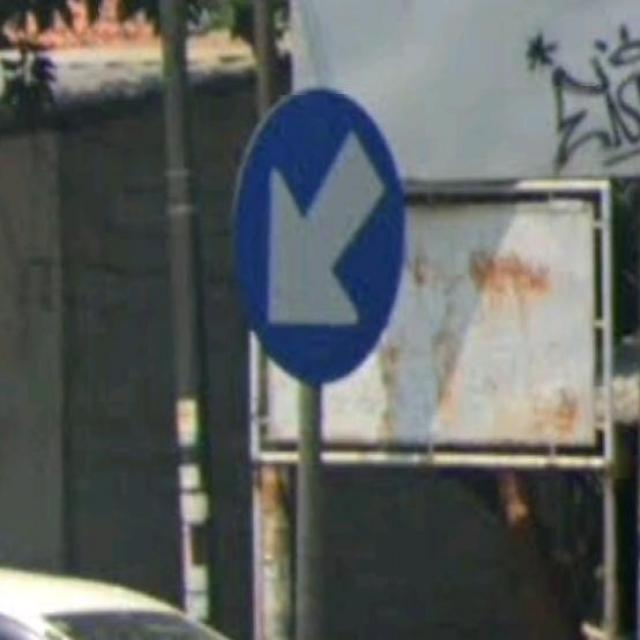traffic sign: (236, 94, 401, 376)
